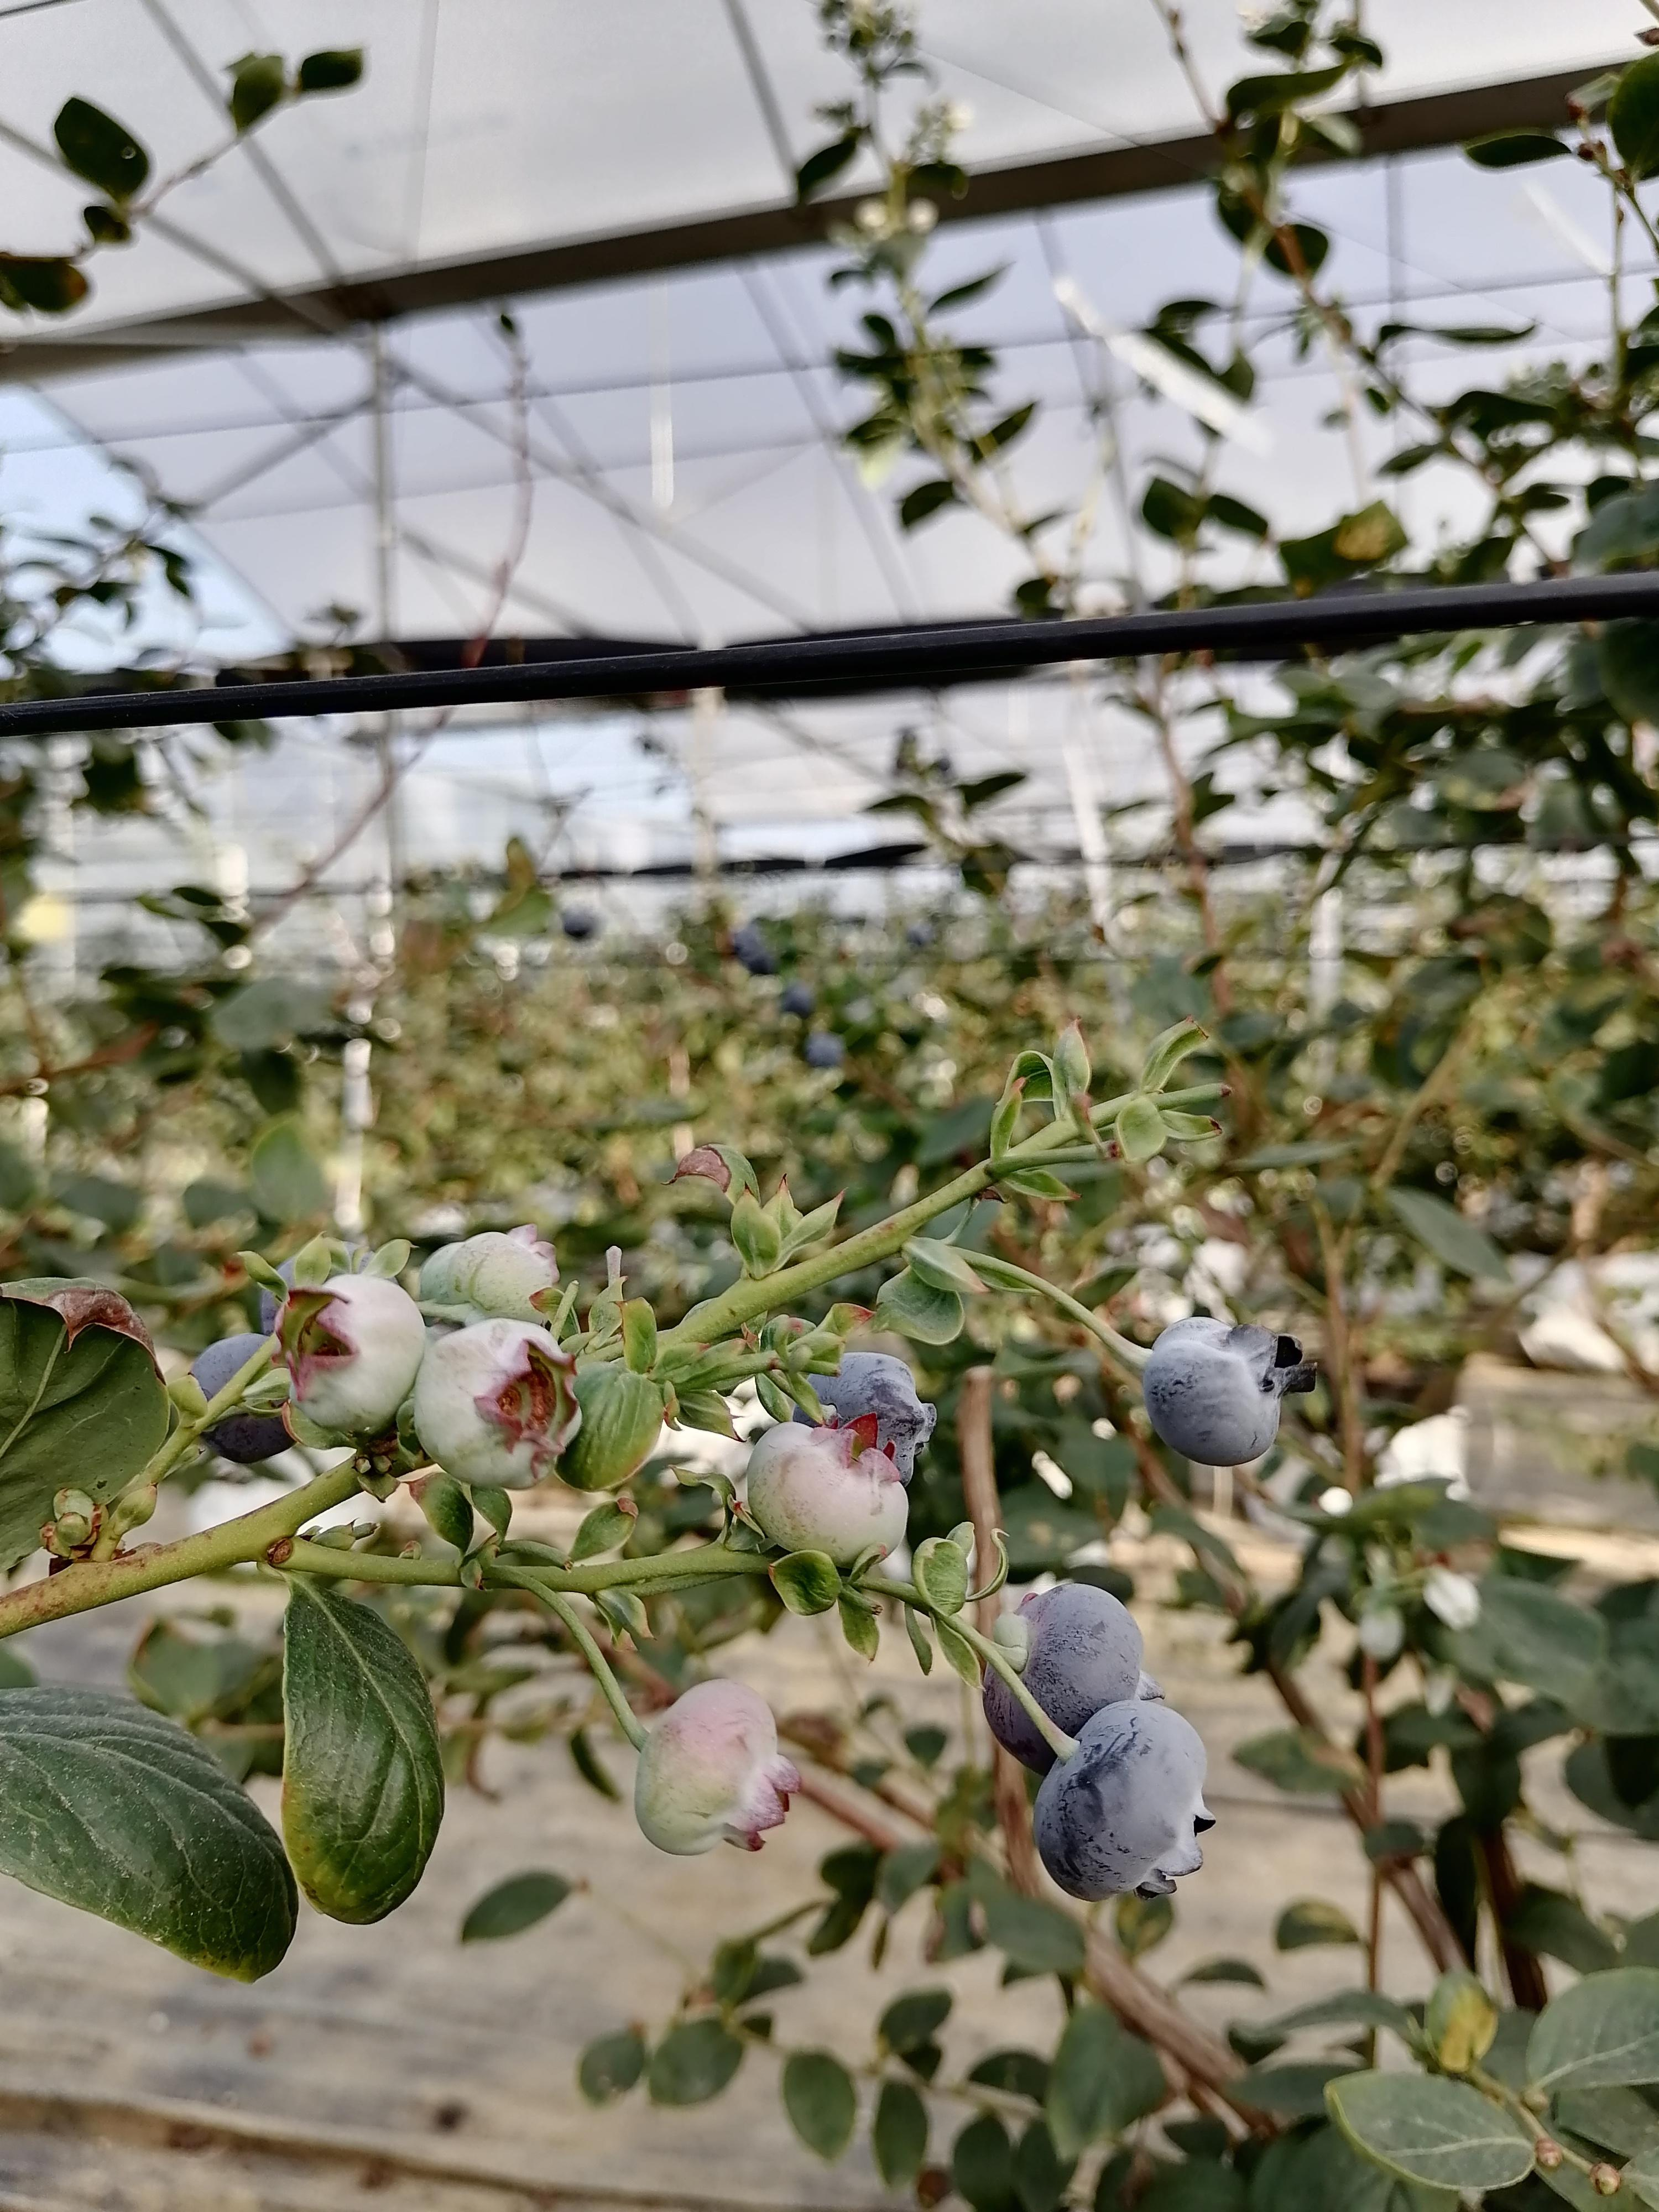ripe-blueberries: (1030, 1696, 1216, 1905), (979, 1583, 1168, 1778), (1141, 1315, 1319, 1468), (795, 1352, 934, 1487), (188, 1331, 298, 1467), (260, 1237, 399, 1332)
